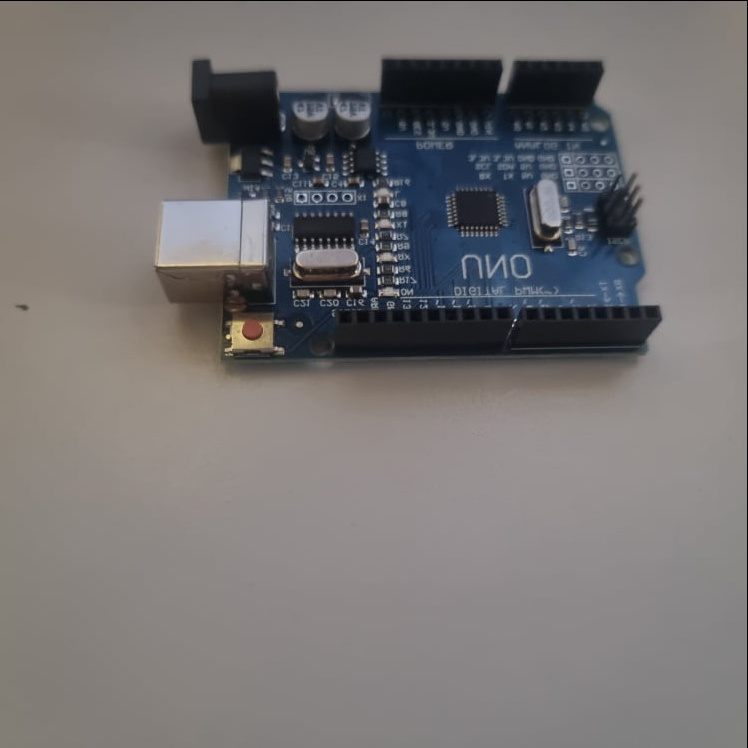UNO R3: (153, 59, 664, 357)
